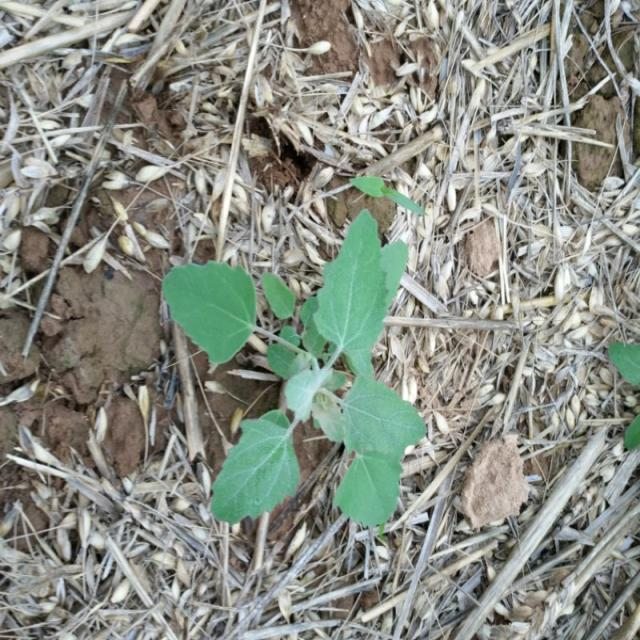goosefoots: (156, 200, 438, 568)
